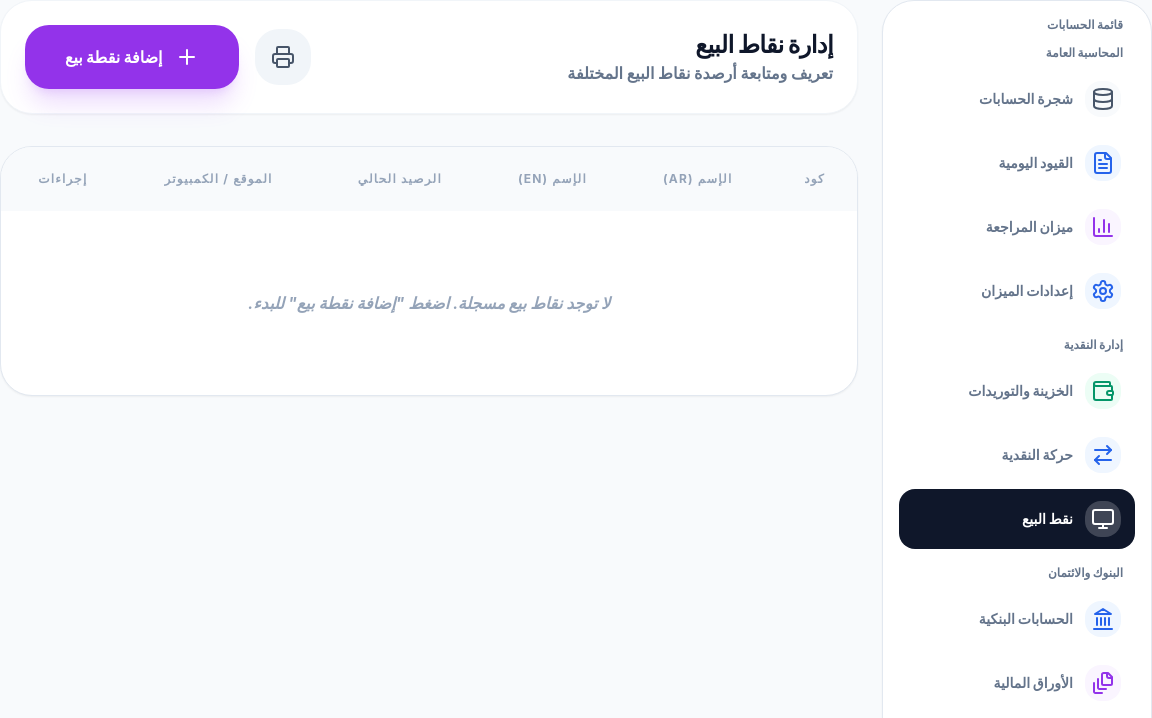
Scenario: coverage gap: finance master-data controls › opens the real pos_management add modal from the visible control
Step 1. Click the button "إضافة نقطة بيع" → [132, 57], box [25,25,239,89]
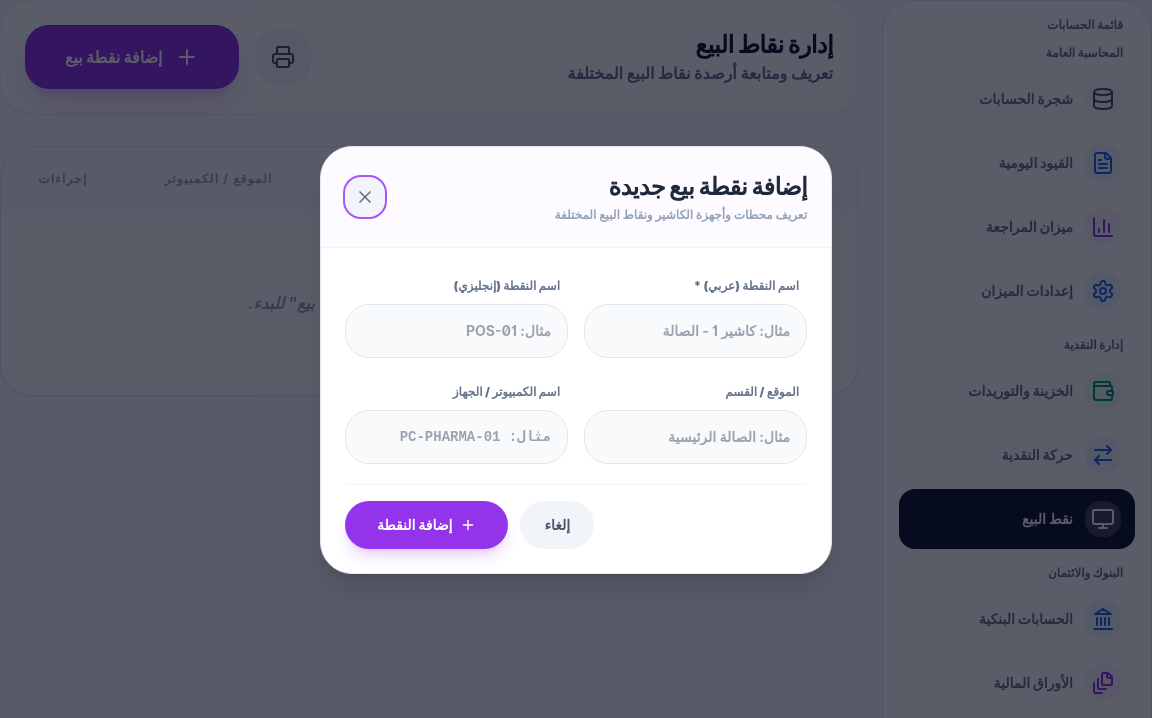
Expected: the heading "إضافة نقطة بيع جديدة" is shown, [609,172,807,201]
